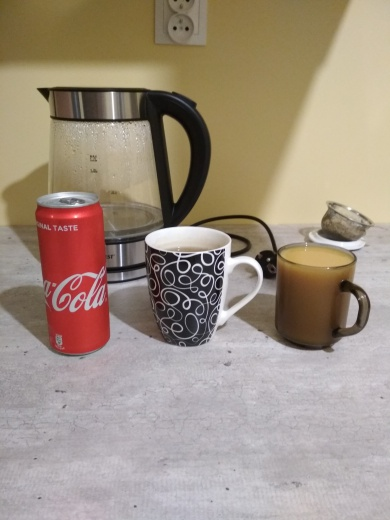cola: (33, 188, 121, 358)
